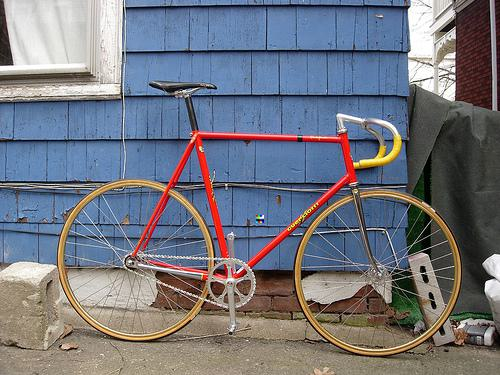car: (57, 79, 464, 359)
